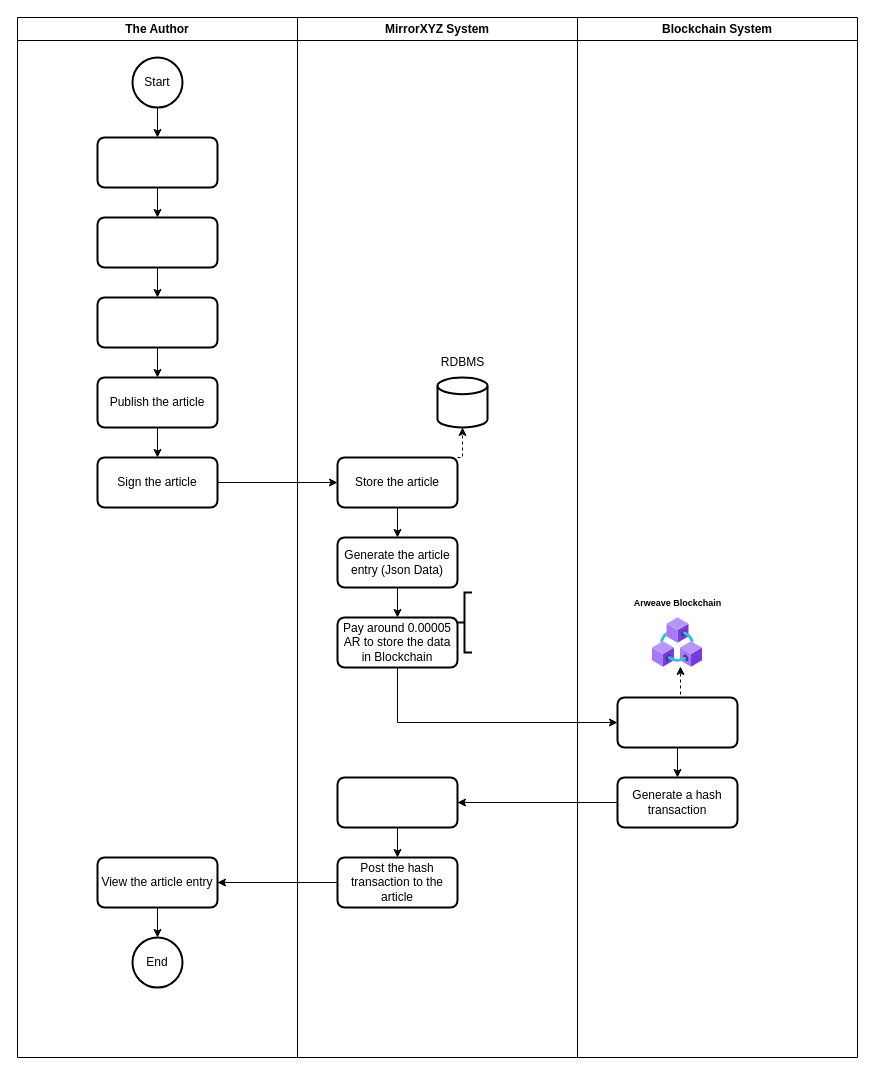
Some shapes in this 875 by 1075 pixel diagram are drawn without their labels. The centre of each missing label's shape, as x and y in pixels:
Create an article: the point at 157,322
Login with Connect to Wallet (Metamask): the point at 157,242
Retrieve the hash transaction: the point at 397,802
Store the data on Blokchain: the point at 677,722
Subsidized by the system: the point at 464,622
The author open the platform: the point at 157,162
